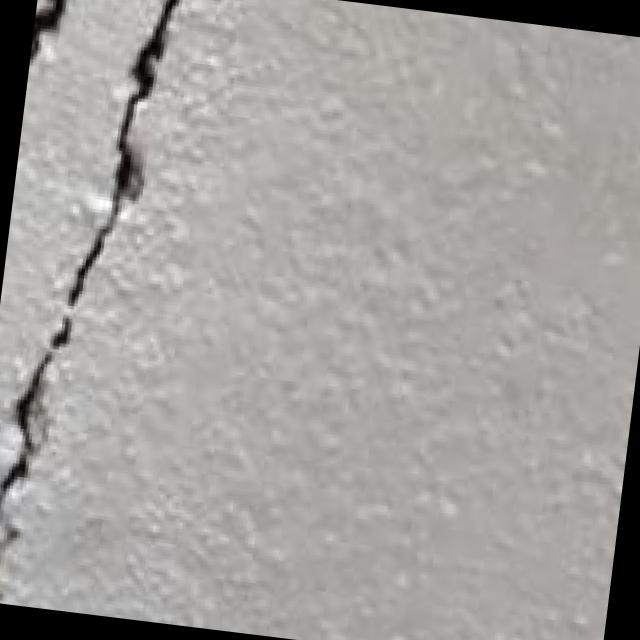crack: (0, 0, 203, 602)
